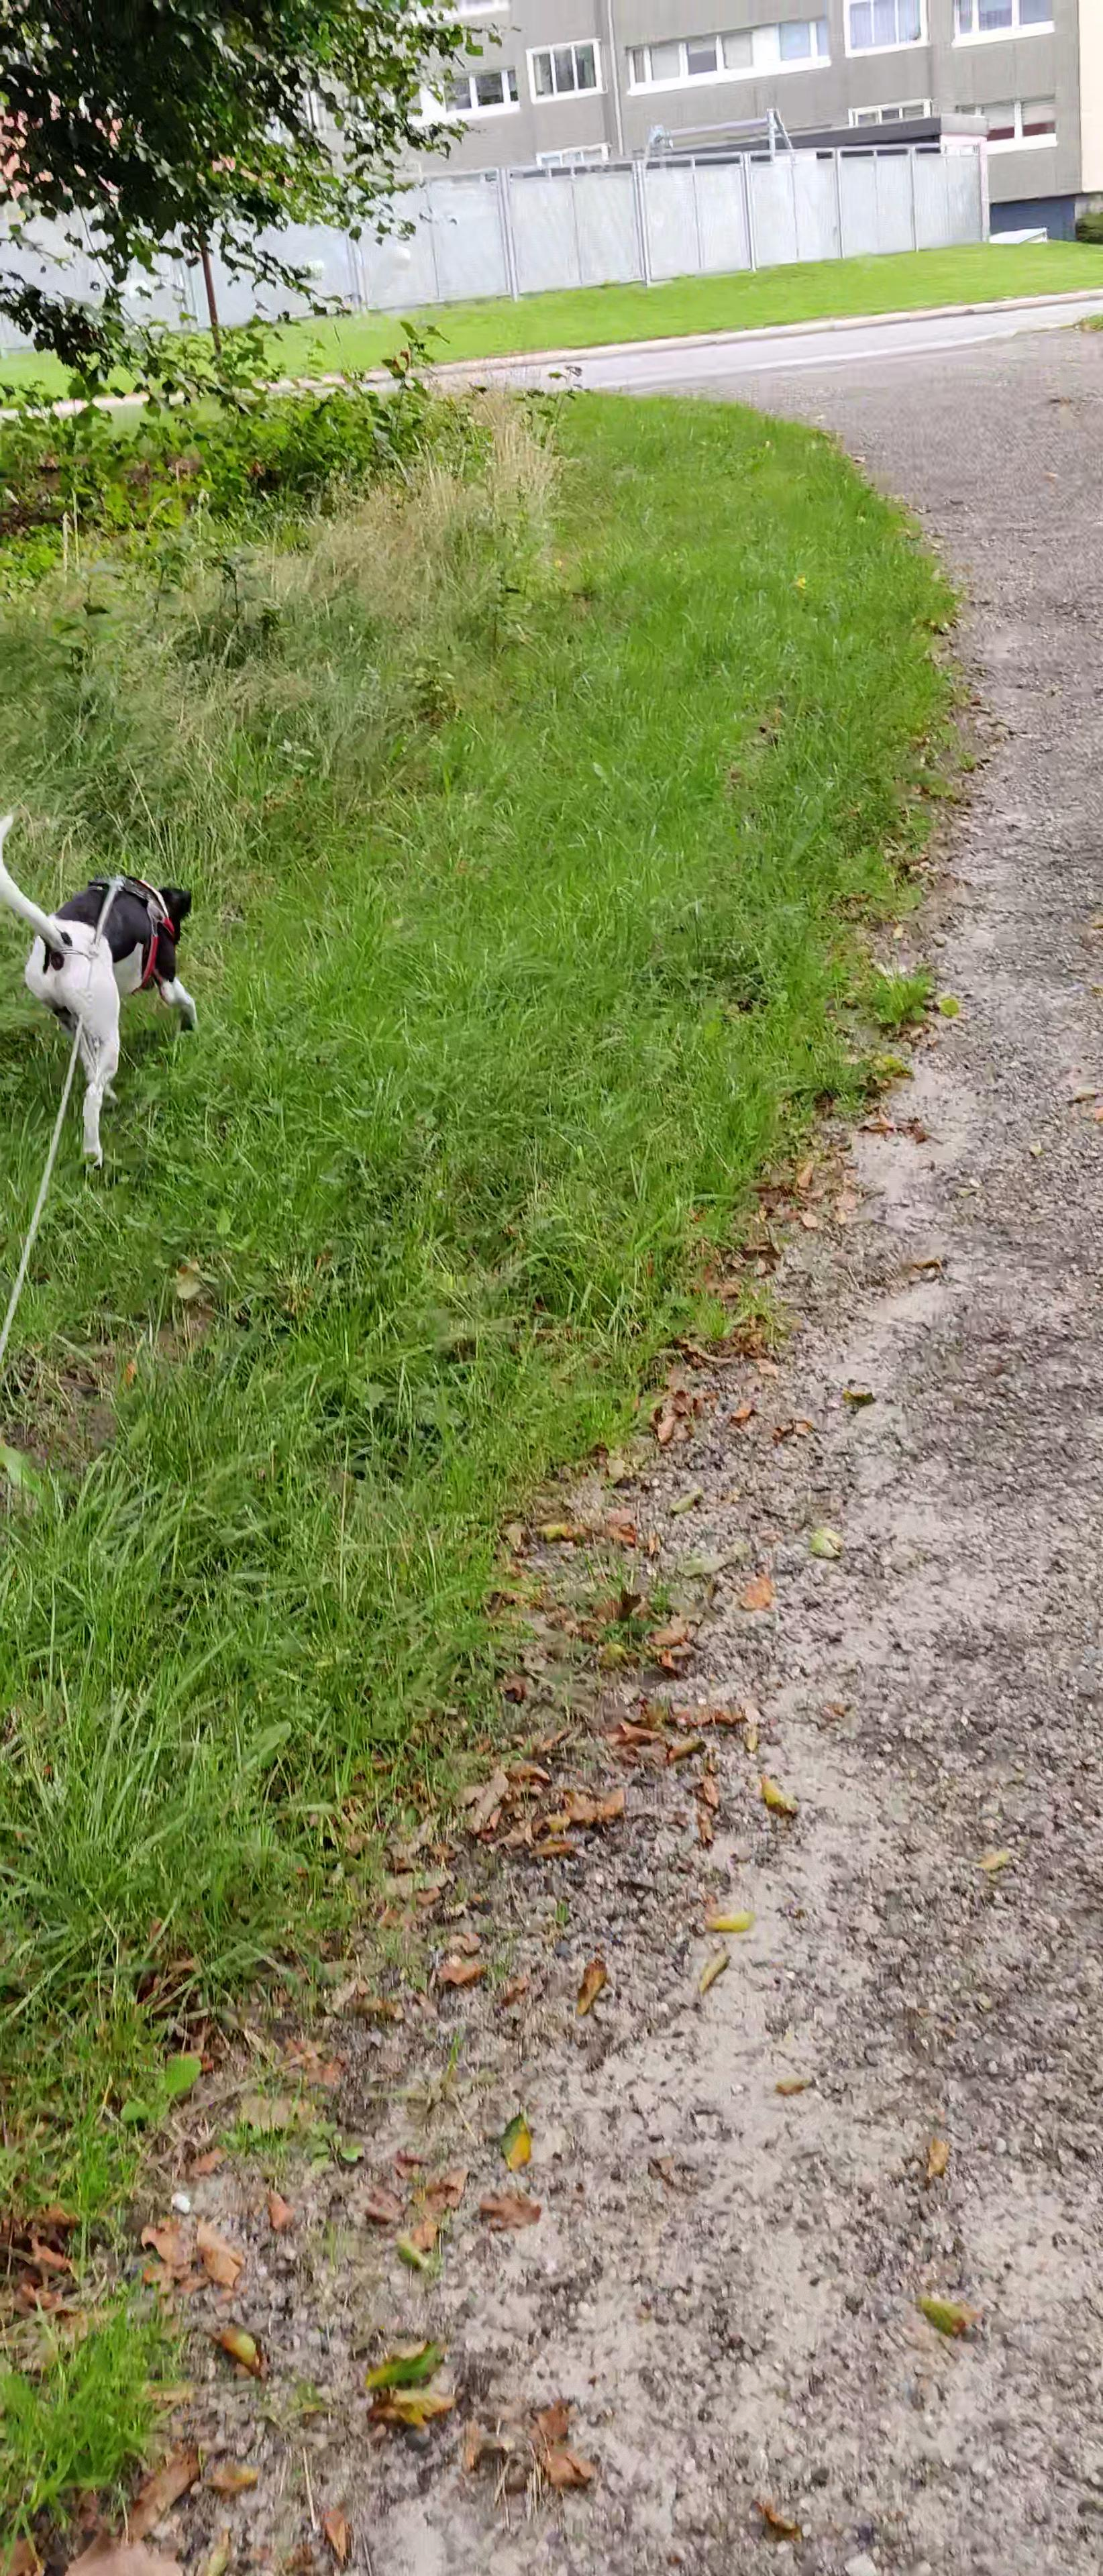Dog: (0, 800, 214, 1181)
